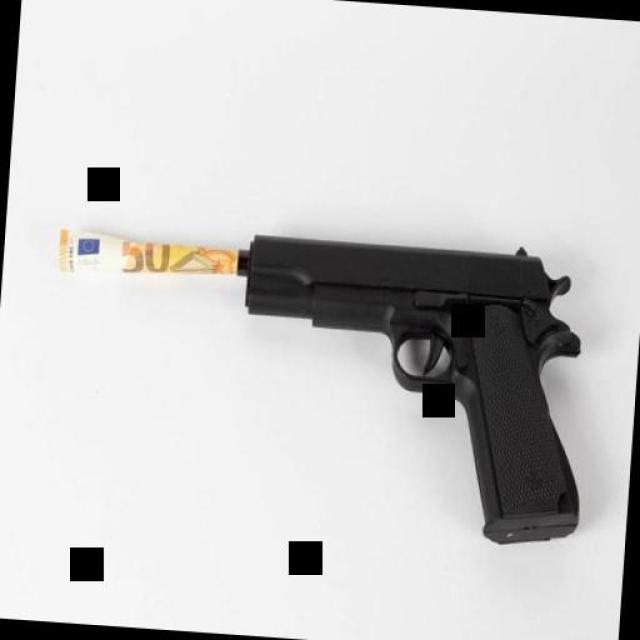gun: (214, 218, 600, 556)
